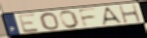A: (102, 6, 124, 26)
E: (17, 12, 42, 34)
F: (77, 7, 98, 28)
H: (118, 3, 143, 25)
O: (39, 12, 62, 31), (59, 10, 81, 29)
